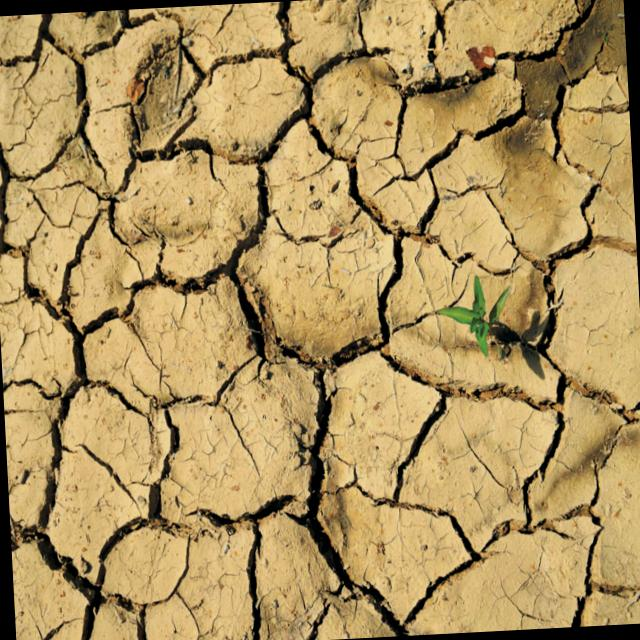suelo_seco: (111, 53, 412, 548)
